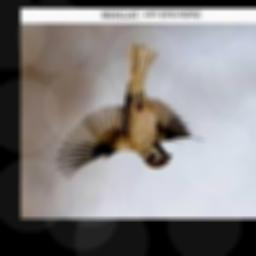Sparrow: (56, 44, 205, 181)
